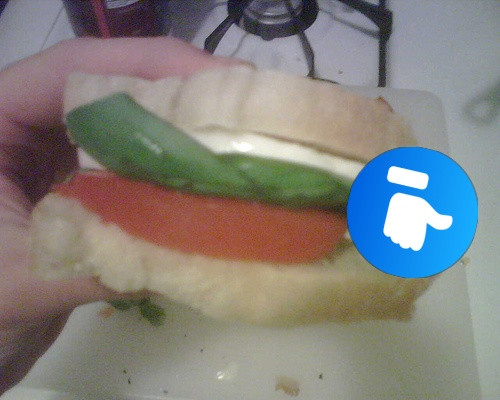like: (347, 147, 478, 278)
